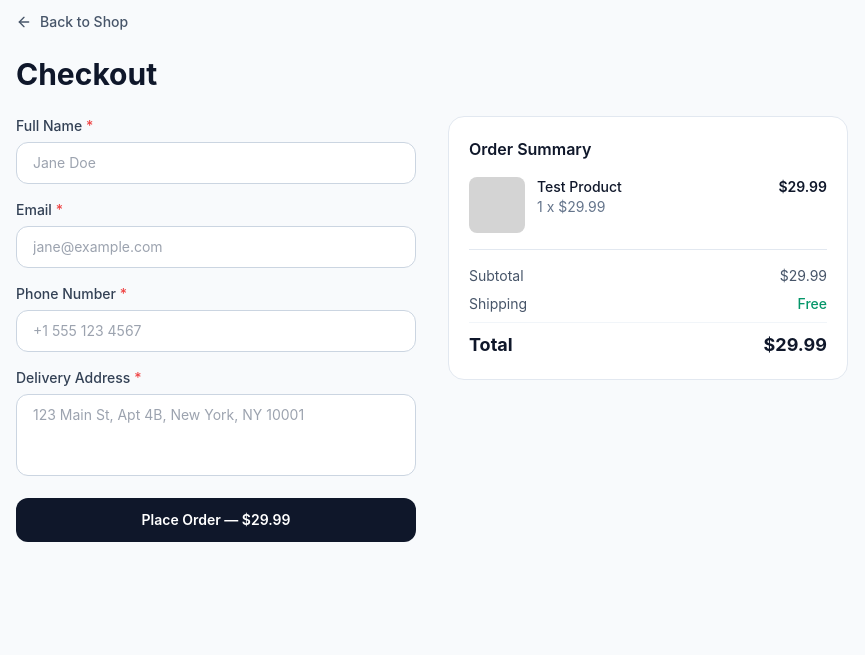
Test: CheckoutPage › validates required fields and shows errors
What coordinates should you click on to do the following:
click the button "Place Order — $29.99"
I would click on:
 (216, 520)
Its box is left=16, top=498, right=416, bottom=542.
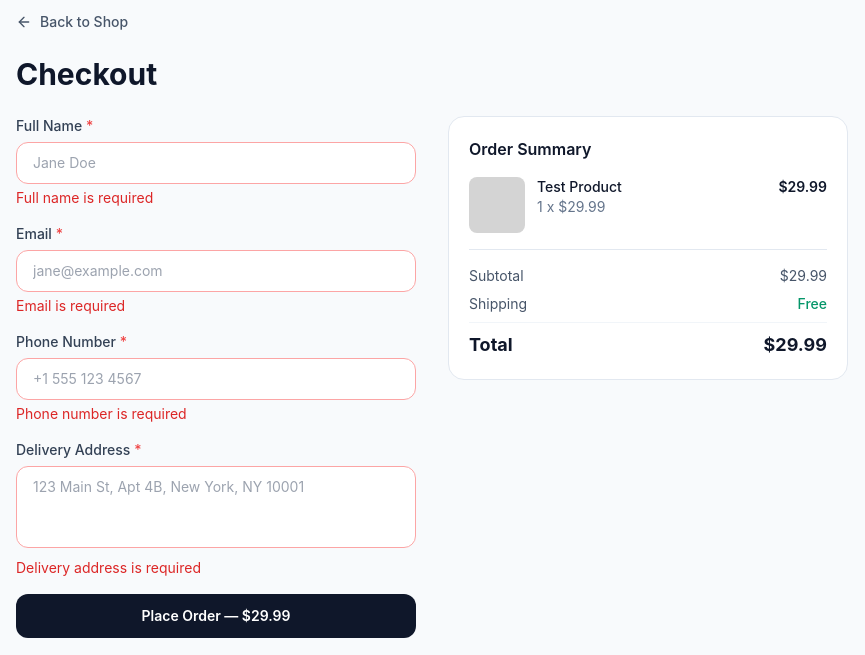
Check: the text "Full name is required" is shown, box left=16, top=189, right=153, bottom=206
Check: the text "Email is required" is shown, box left=16, top=297, right=125, bottom=314
Check: the text "Phone number is required" is shown, box left=16, top=405, right=187, bottom=422
